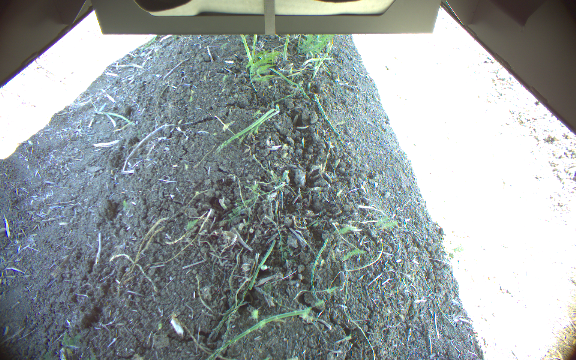aspa: (236, 34, 252, 63), (282, 34, 292, 61), (251, 35, 259, 59)
